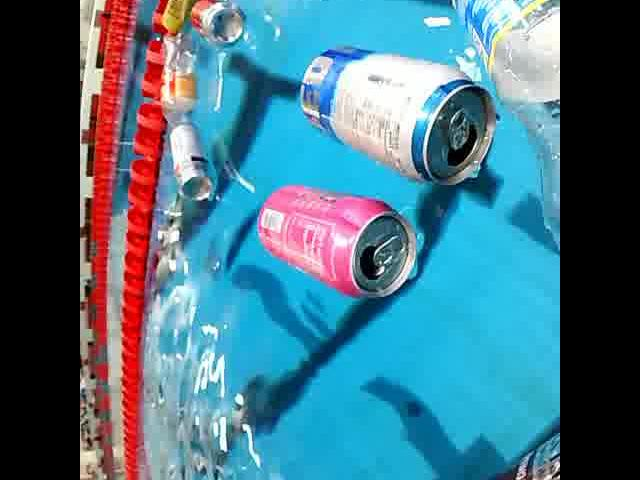Bottle: (426, 0, 560, 260), (158, 27, 202, 133)
Can: (294, 37, 508, 191), (254, 180, 422, 304), (481, 414, 560, 480), (166, 114, 218, 204), (188, 0, 248, 47), (158, 0, 208, 36)
